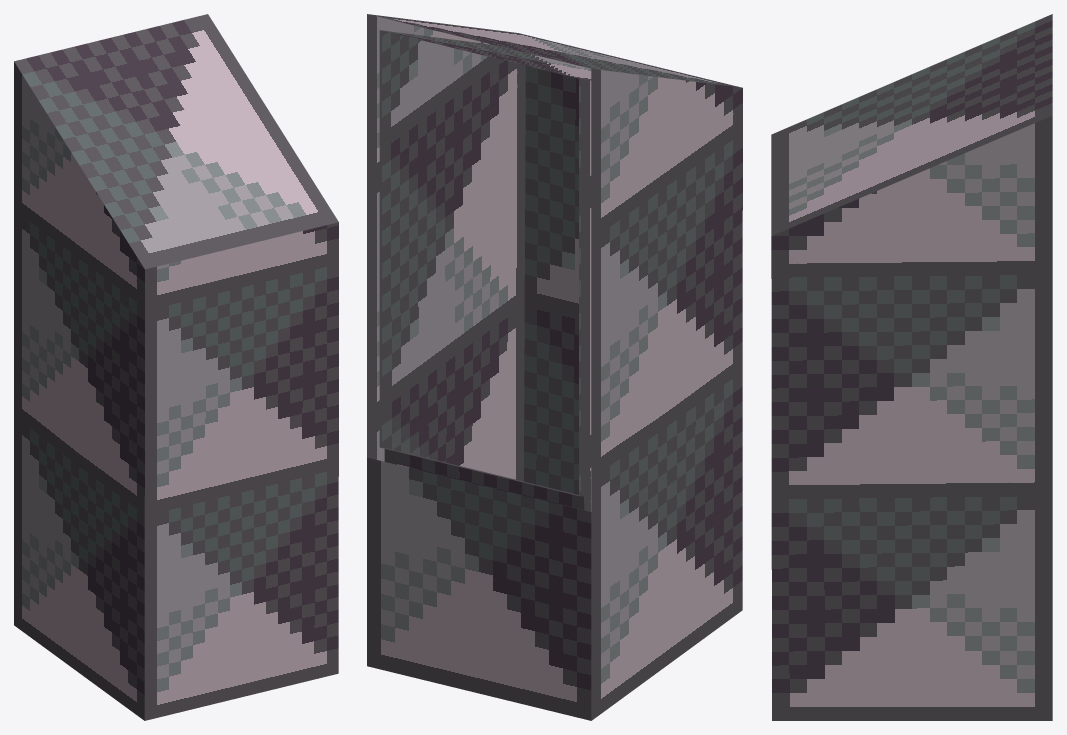
File: VentOpening.fbx
The picture shows the model from 3 angles, left to right: view 1: azimuth 30°, elevation 25°; view 2: azimuth 150°, elevation 25°; view 3: azimuth 270°, elevation 25°; orthographic projection. The views are drawn at different scales.
Visible parts, largest first — view 1: Vent4x.001; view 2: Vent4x.001; view 3: Vent4x.001.
Boxes of the visible parts, x1,y1,x2,y2 form: Vent4x.001: [14, 14, 338, 720]; Vent4x.001: [367, 14, 742, 720]; Vent4x.001: [771, 14, 1052, 720].
Bounding box in the file's own units: 113 × 312 × 132.
